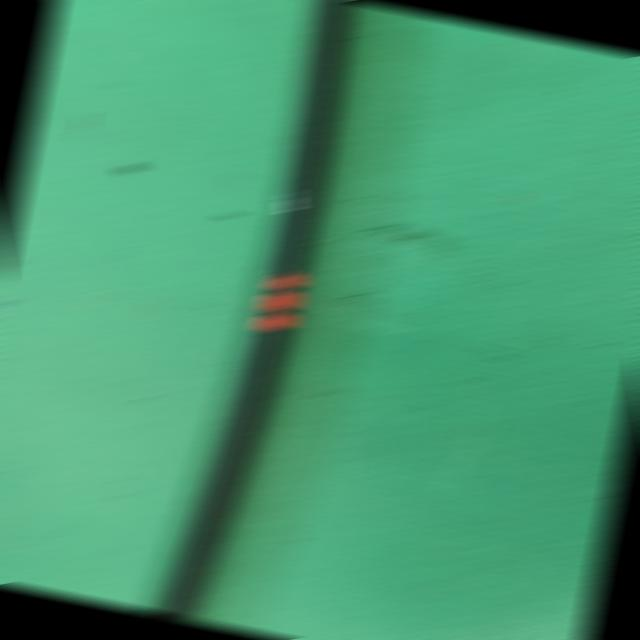red: (253, 272, 304, 334)
